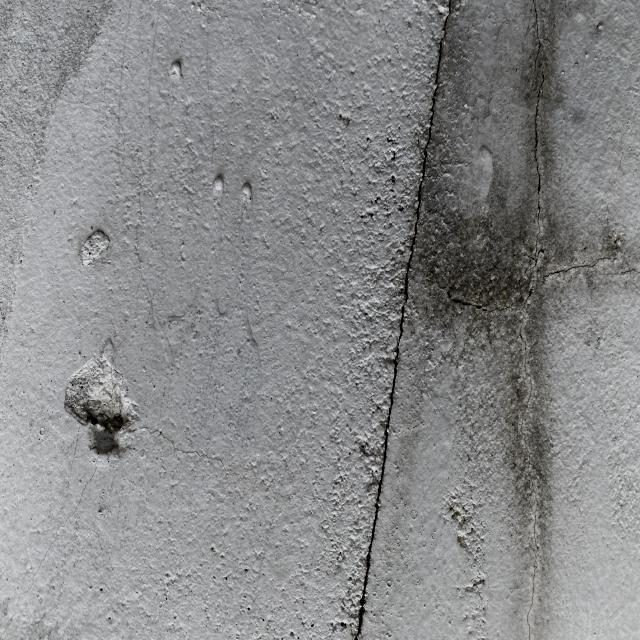SurfaceCrack: (309, 0, 481, 638)
